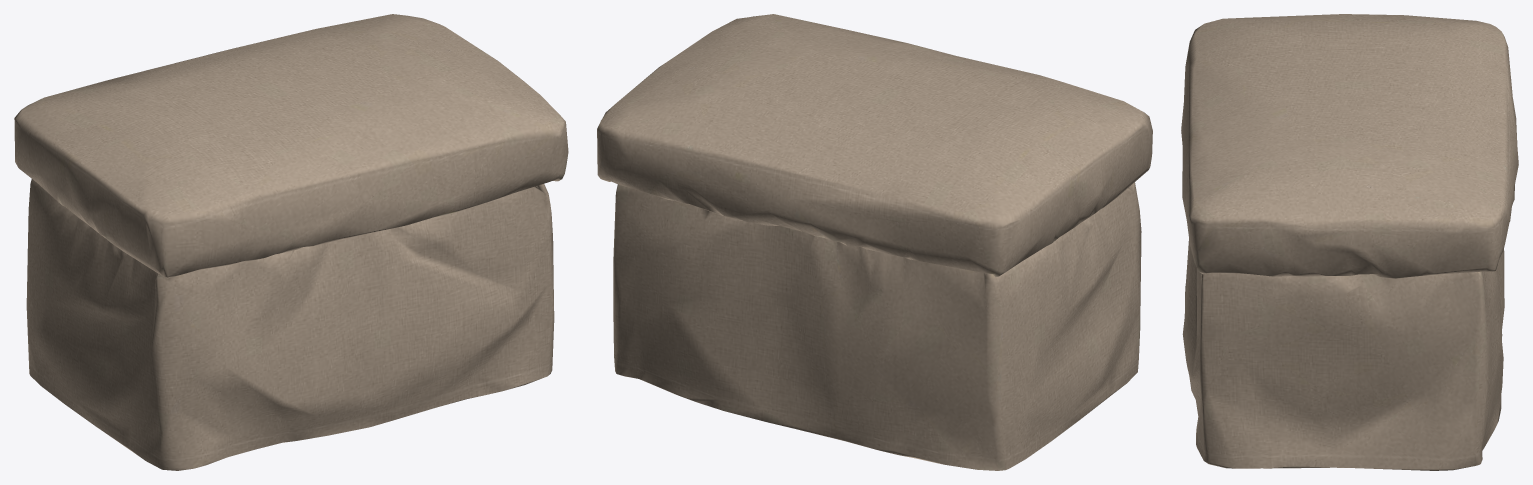
File: strandmon_pokrowiec_na_podnozek_00636355.glb
3 views of the same model, side by side, from view 1: azimuth 30°, elevation 25°; view 2: azimuth 150°, elevation 25°; view 3: azimuth 270°, elevation 25° (orthographic).
Visible parts, largest first — view 1: strandmon_pokrowiec_na_podnozek_00636355; view 2: strandmon_pokrowiec_na_podnozek_00636355; view 3: strandmon_pokrowiec_na_podnozek_00636355.
Part boxes in pixels (x1,y1,x2,y2): strandmon_pokrowiec_na_podnozek_00636355: (14, 14, 568, 470); strandmon_pokrowiec_na_podnozek_00636355: (597, 14, 1152, 470); strandmon_pokrowiec_na_podnozek_00636355: (1181, 14, 1518, 470).
Size of the model in its own units: 0.6272 by 0.3974 by 0.4287.
2 materials, 2 textured.
